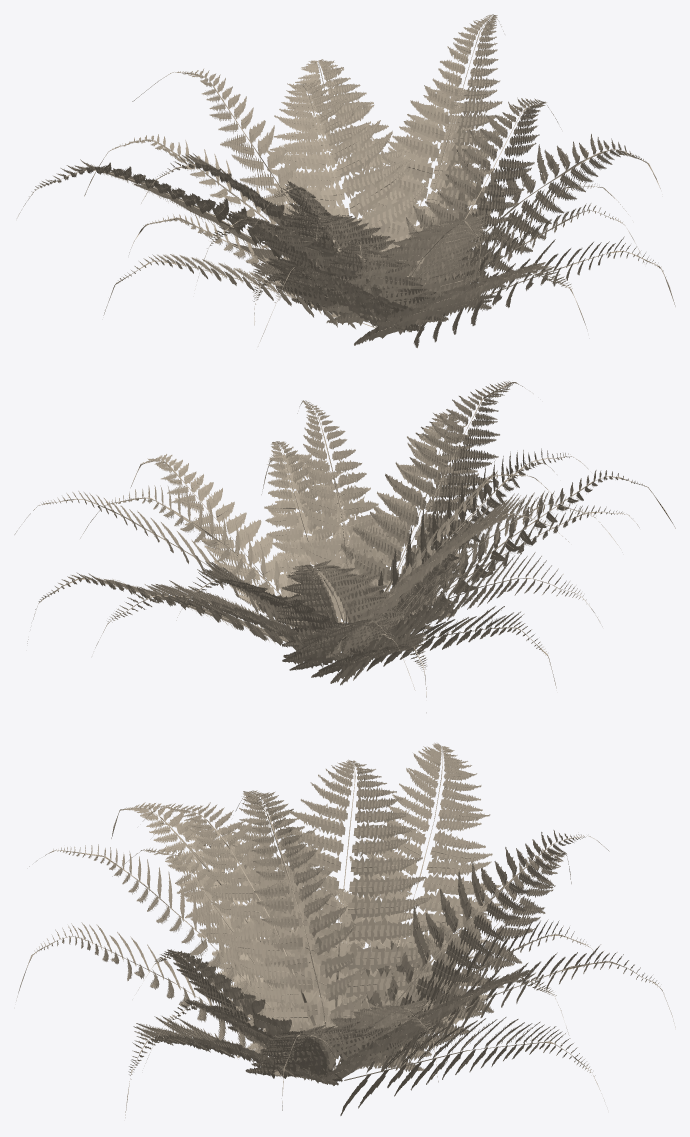
The model's file is 3dcodebench_Fern_seed0.glb.
3 views of the same model, one above another, from view 1: azimuth 30°, elevation 25°; view 2: azimuth 150°, elevation 25°; view 3: azimuth 270°, elevation 25° (orthographic). The views are drawn at different scales.
Parts seen in each view (by area): view 1: object; view 2: object; view 3: object.
Boxes of the visible parts, x1,y1,x2,y2 form: object: [17, 14, 675, 347]; object: [14, 381, 675, 712]; object: [16, 743, 675, 1117].
Size of the model in its own units: 3.24 by 1.15 by 3.13.
